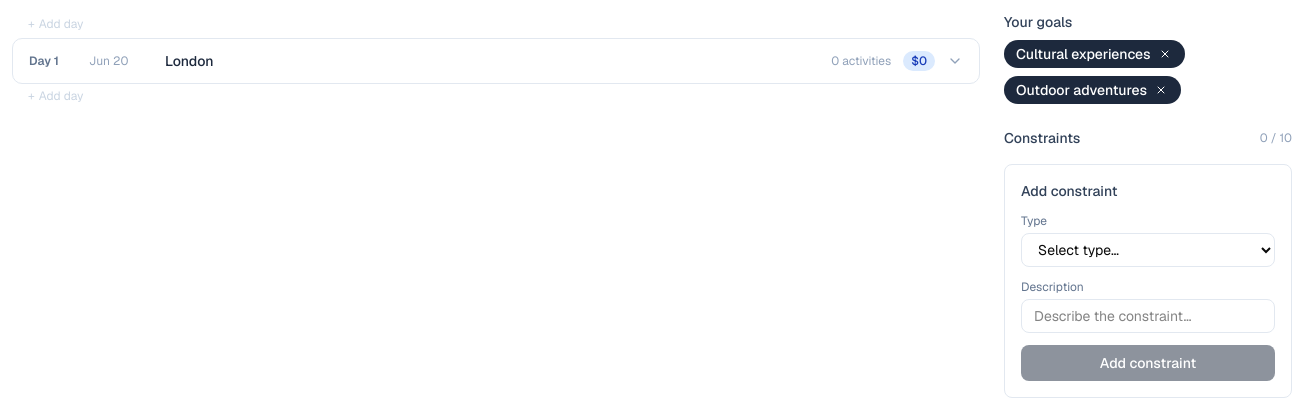
goalError — absent on happy path › no error message after a successful remove
Expected: the text "Cultural experiences" is shown, [1004, 40, 1185, 68]
Click the button named "remove cultural experiences".
click(1165, 54)  # box [1157, 46, 1173, 62]
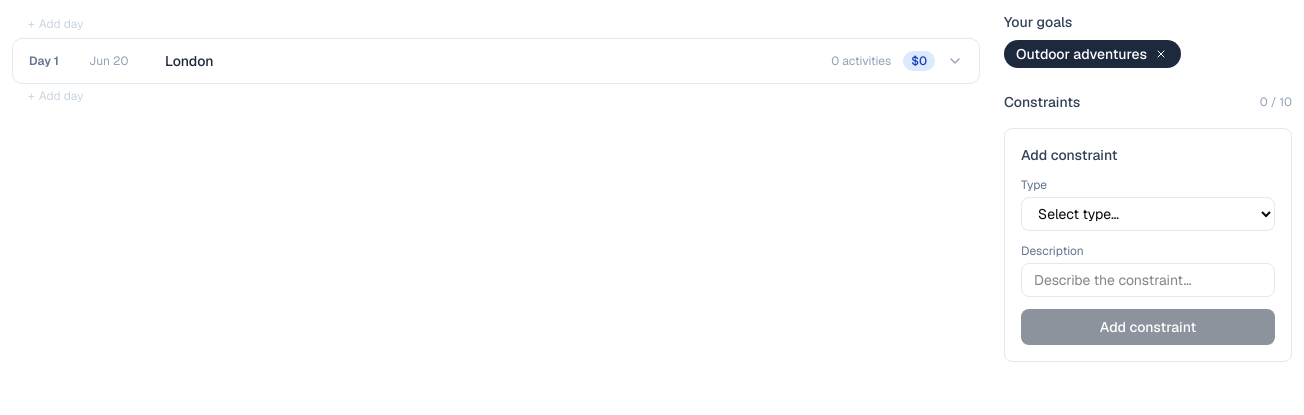
Expected: the text "Cultural experiences" is gone
